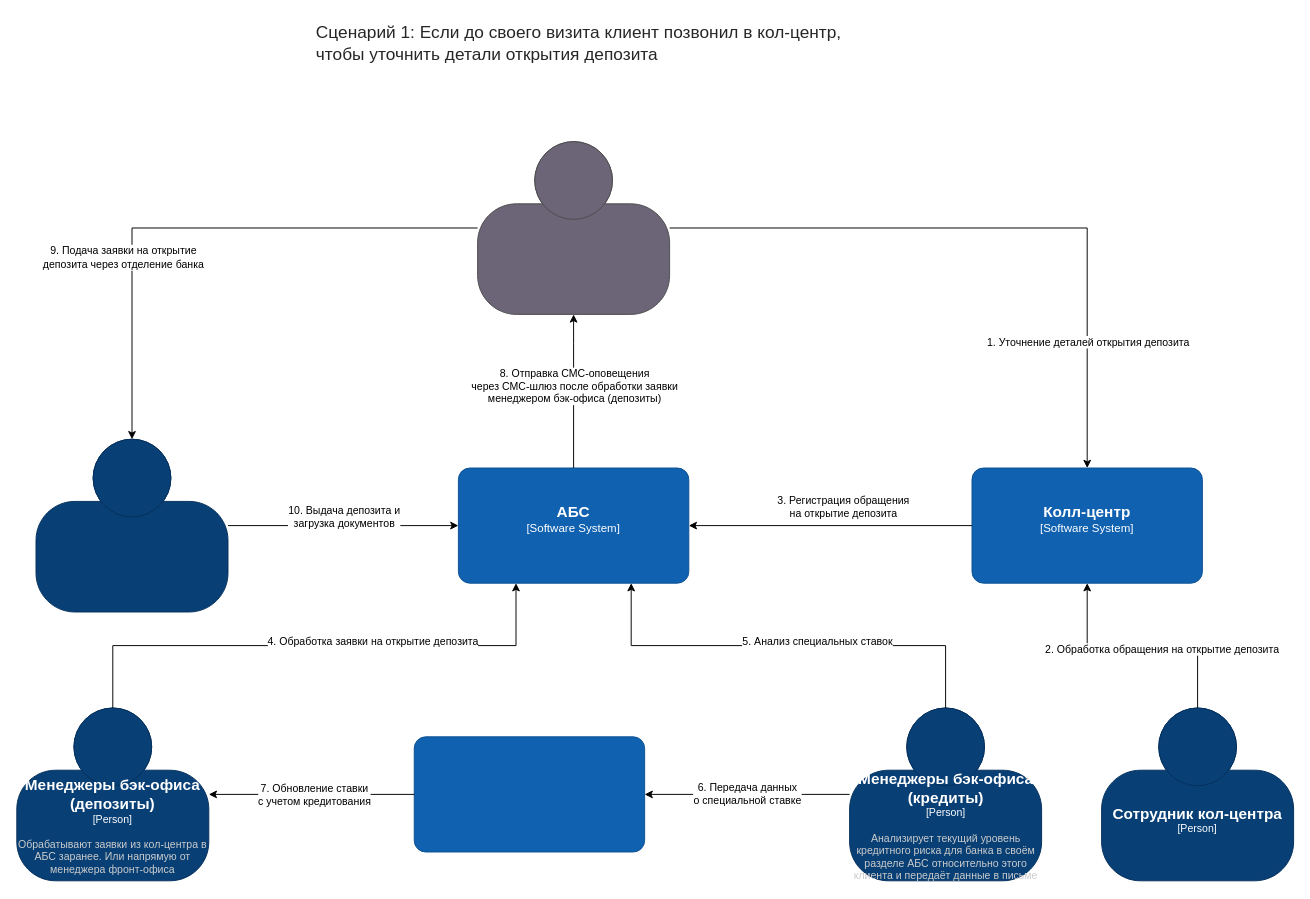
This 1310x899 diagram has some shape labels left out. The shapes that lost their labels are listed below. From the top down, each one's box as (x1, y1, x2, y2) in pixels, then its label:
(477, 141, 670, 314): Клиент банка [Person]
(35, 438, 228, 612): Менеджер фронт-офиса [Person]
(413, 736, 645, 852): Почта [Software System]
